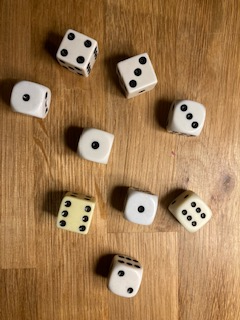four: (53, 27, 100, 78)
one: (8, 79, 52, 121), (121, 185, 160, 227), (75, 125, 115, 165)
six: (166, 188, 214, 233), (55, 190, 98, 236)
three: (113, 51, 159, 99), (165, 98, 208, 138)
two: (105, 253, 145, 300)
